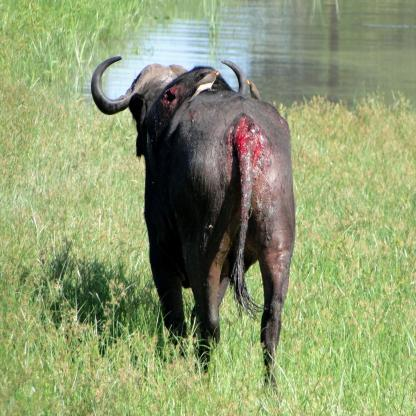buffalo: (82, 47, 294, 397)
injured: (212, 108, 270, 204), (145, 76, 184, 144)
